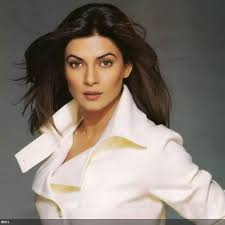indian_female: (35, 21, 154, 115)
